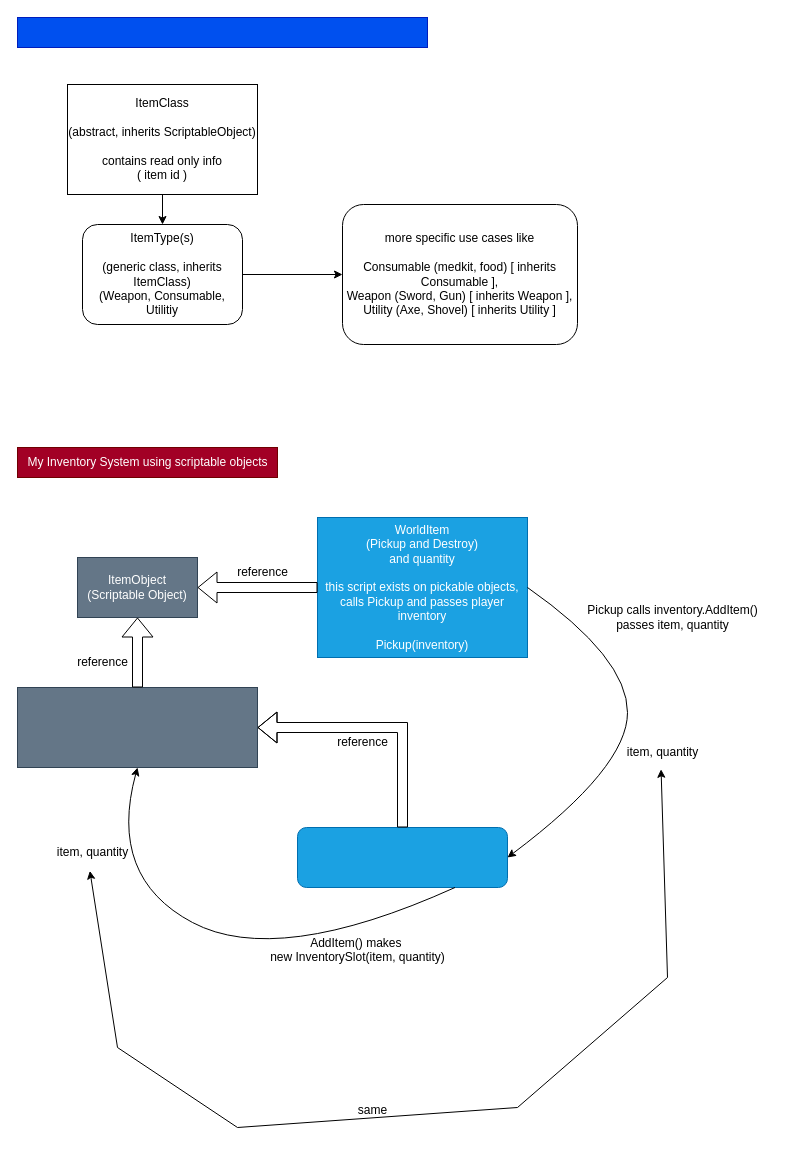
The diagram is 785 pixels wide and 1154 high, and some of its shapes have lost their labels. The centre of each missing label's shape, as x and y in pixels:
"basic components of an inventory system in unity using scriptable objects" goes at (x=222, y=32).
"Inventory AddItem(ItemObject item, int quantity)" goes at (x=402, y=857).
"InventorySlot (Serializable) InventorySlot(ItemObject item, int quantity)" goes at (x=137, y=727).
